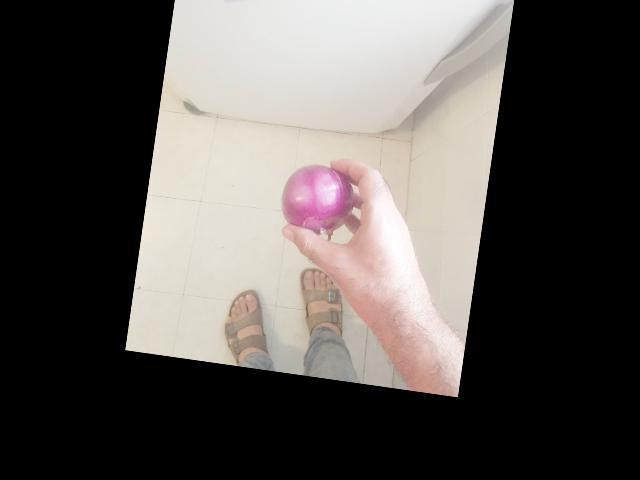onion: (275, 159, 365, 241)
